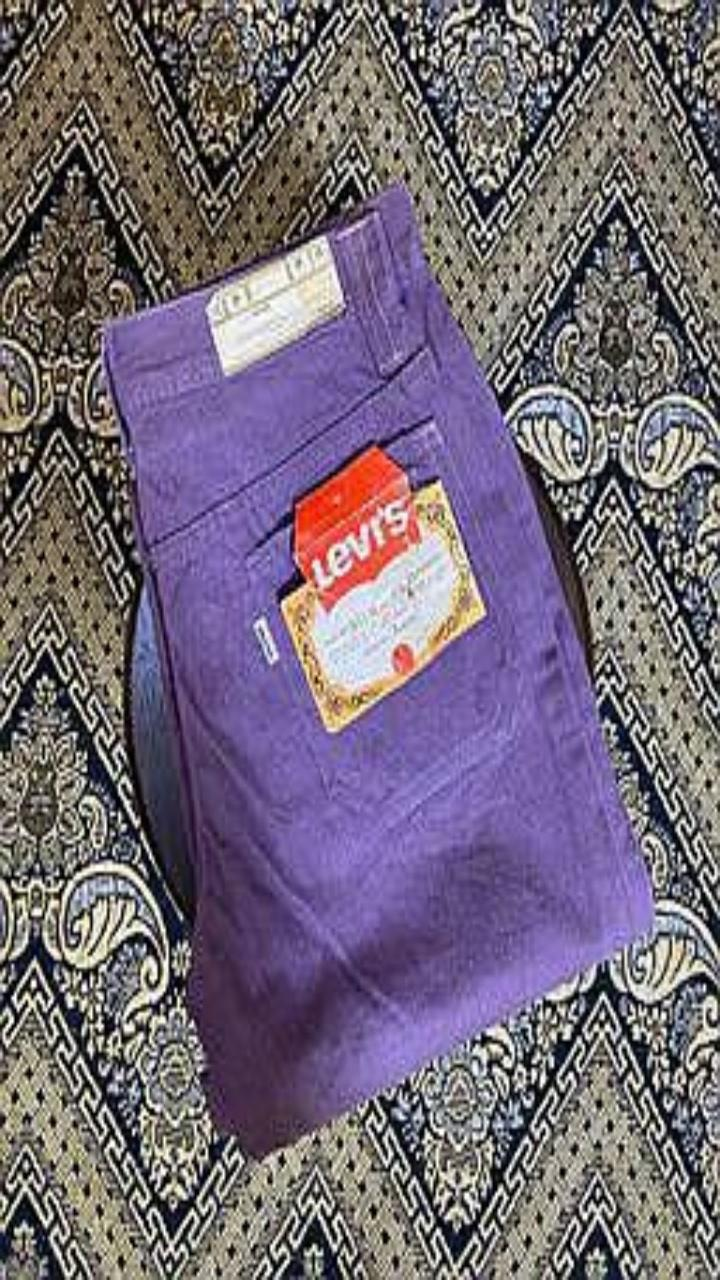Shorts: (104, 184, 651, 1154)
